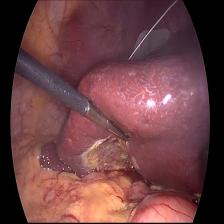Grasper: (84, 99, 134, 152)
